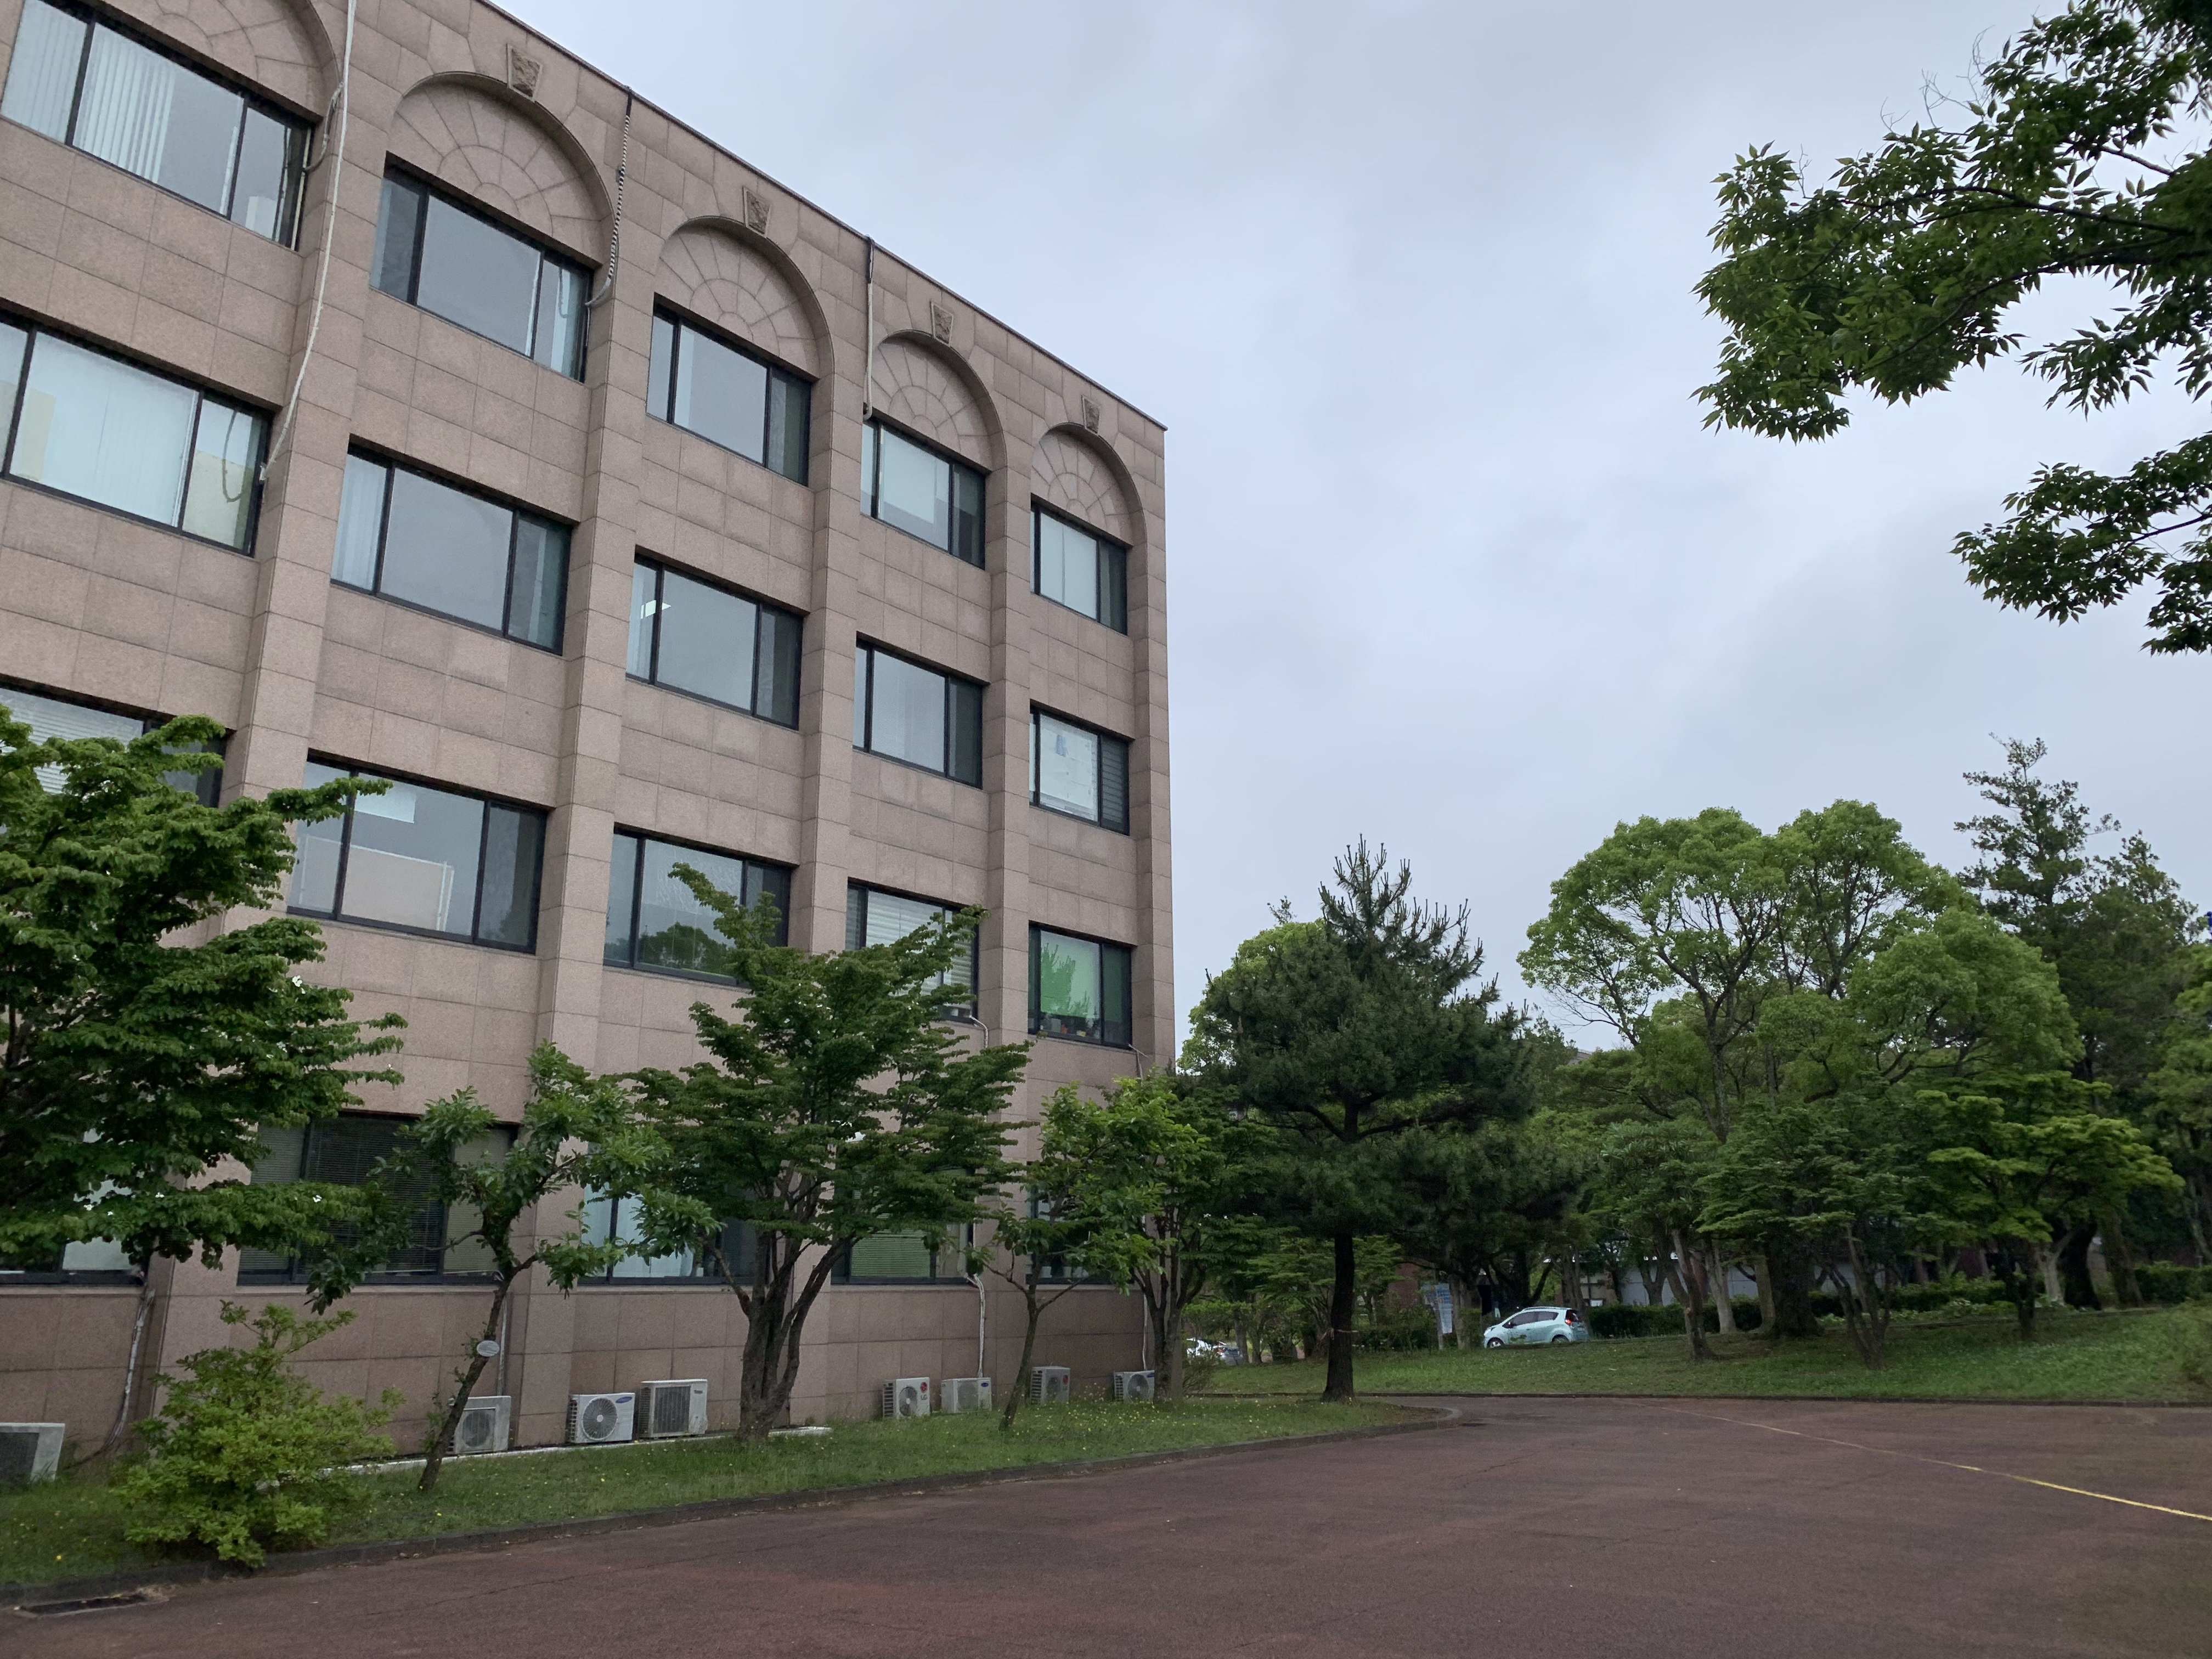Natural Science2: (68, 31, 1165, 1323)
